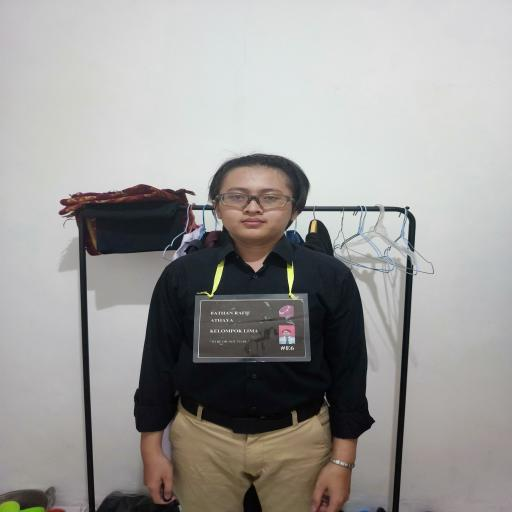celana_salah: (168, 419, 339, 512)
kemeja_salah: (134, 250, 380, 409)
nametag_ada: (182, 273, 324, 374)
sabuk_ada: (177, 402, 345, 435)
